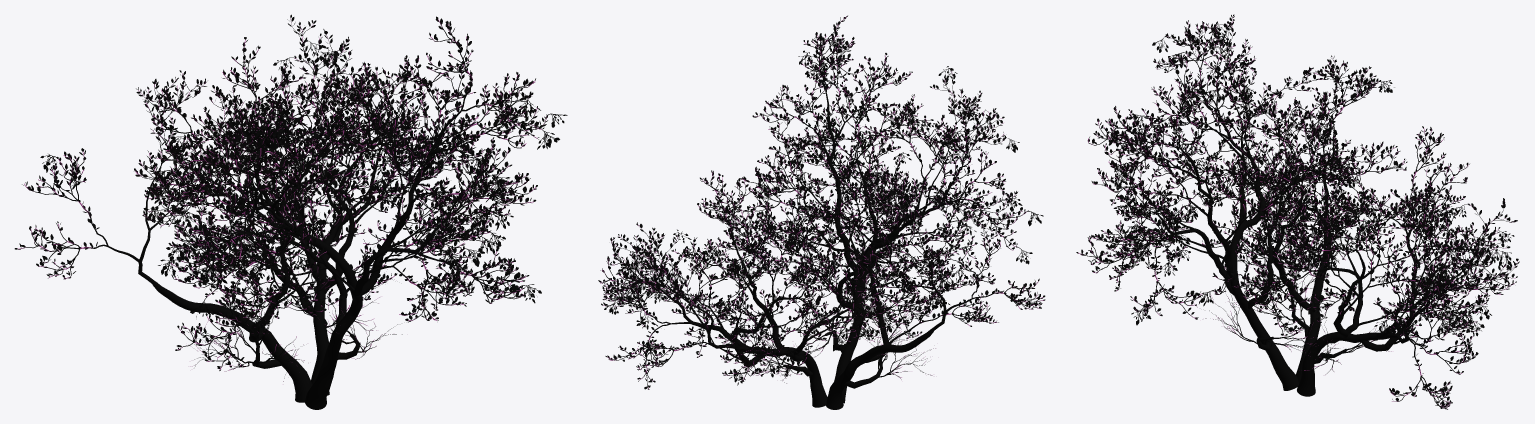
File: 3DTree_Arctostaphylos manzanita_05.FBX
3 renders of one model, left to right at view 1: azimuth 30°, elevation 25°; view 2: azimuth 150°, elevation 25°; view 3: azimuth 270°, elevation 25°, orthographic. The views are drawn at different scales.
Visible parts, largest first — view 1: 3DTree_Arctostaphylos manzanita_05; view 2: 3DTree_Arctostaphylos manzanita_05; view 3: 3DTree_Arctostaphylos manzanita_05.
Boxes of the visible parts, x1,y1,x2,y2 form: 3DTree_Arctostaphylos manzanita_05: [14, 14, 567, 409]; 3DTree_Arctostaphylos manzanita_05: [598, 15, 1045, 409]; 3DTree_Arctostaphylos manzanita_05: [1076, 14, 1519, 409].
Bounding box in the file's own units: 470 × 394 × 443.
